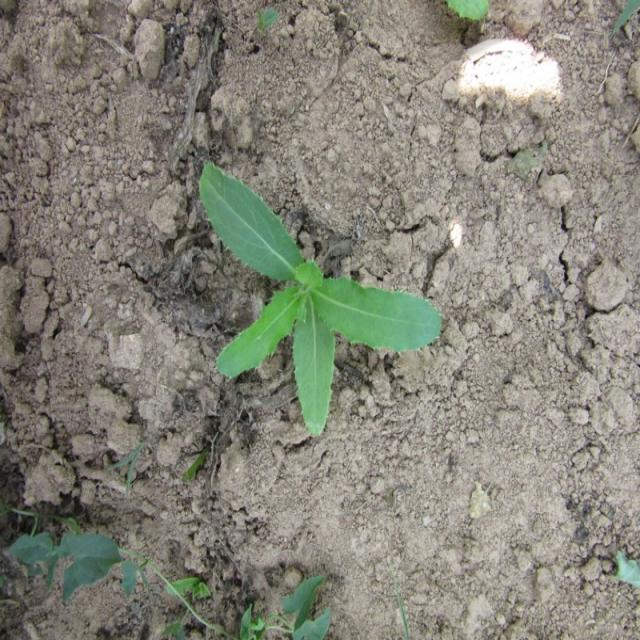field_thistle: (178, 150, 454, 445)
